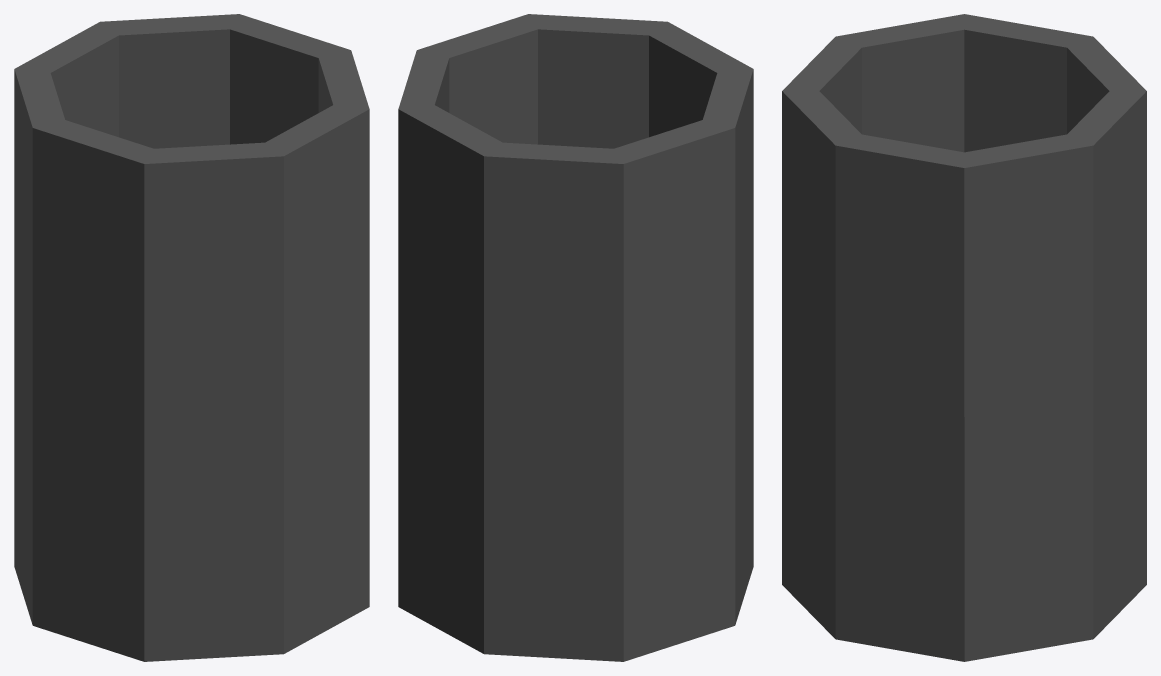
File: ToothbrushCup_06.fbx
3 renders of one model, left to right at view 1: azimuth 30°, elevation 25°; view 2: azimuth 150°, elevation 25°; view 3: azimuth 270°, elevation 25°, orthographic.
Parts seen in each view (by area): view 1: ToothbrushCup_06; view 2: ToothbrushCup_06; view 3: ToothbrushCup_06.
Part boxes in pixels (<box>): ToothbrushCup_06: <box>14,14,369,661</box>; ToothbrushCup_06: <box>398,14,753,661</box>; ToothbrushCup_06: <box>782,14,1146,661</box>.
Bounding box in the file's own units: 10.39 × 15.52 × 10.39.
